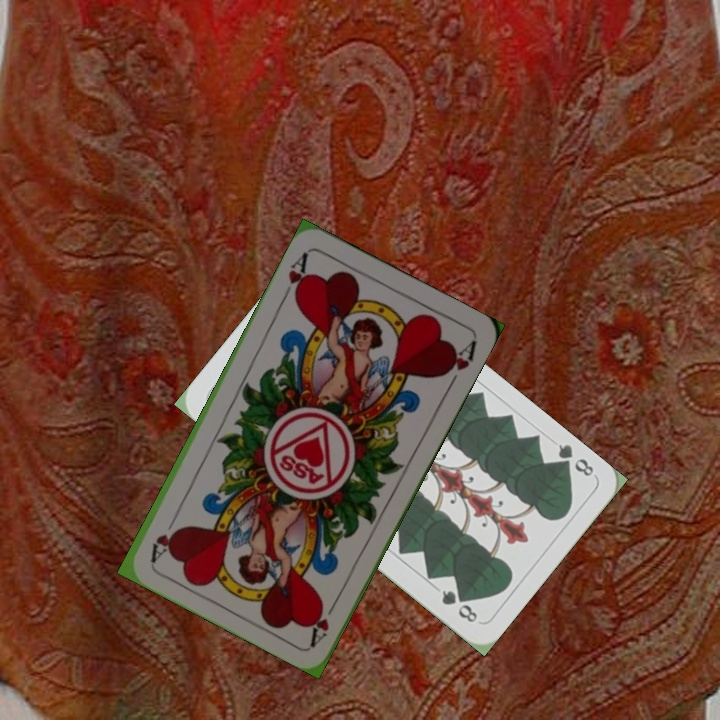G8: (552, 440, 597, 479)
HA: (306, 592, 342, 647), (278, 248, 312, 305)
